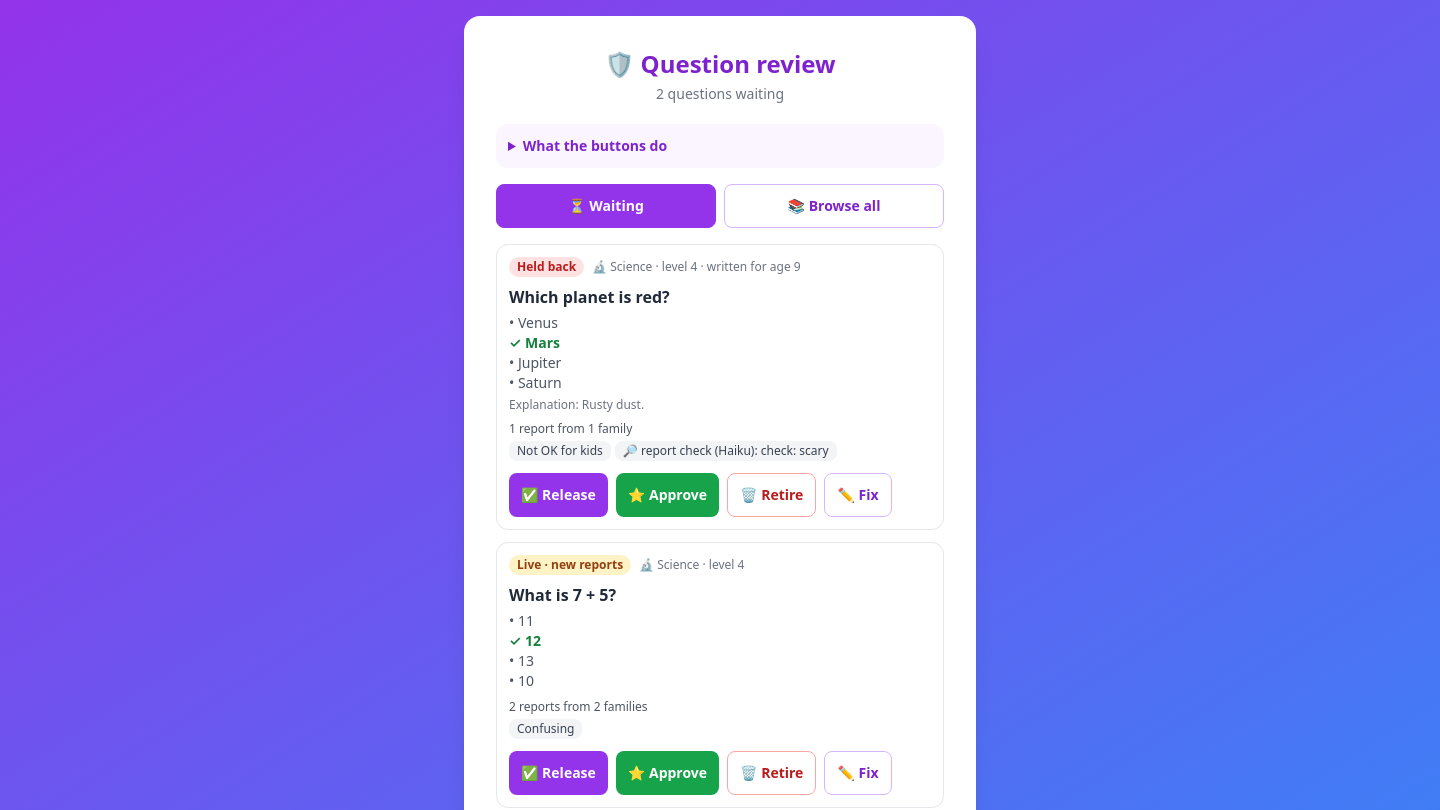
Scenario: QuestionReviewPage (#147) › Release and Approve decide at once; the question leaves the list and it says so
Check: the text "2 questions waiting" is shown, box [656,84,784,103]
What coordinates should you click on to do the following:
click the button "✅ Release" below "Held back"
I would click on:
 (558, 495)
Its box is [509,473,608,517].
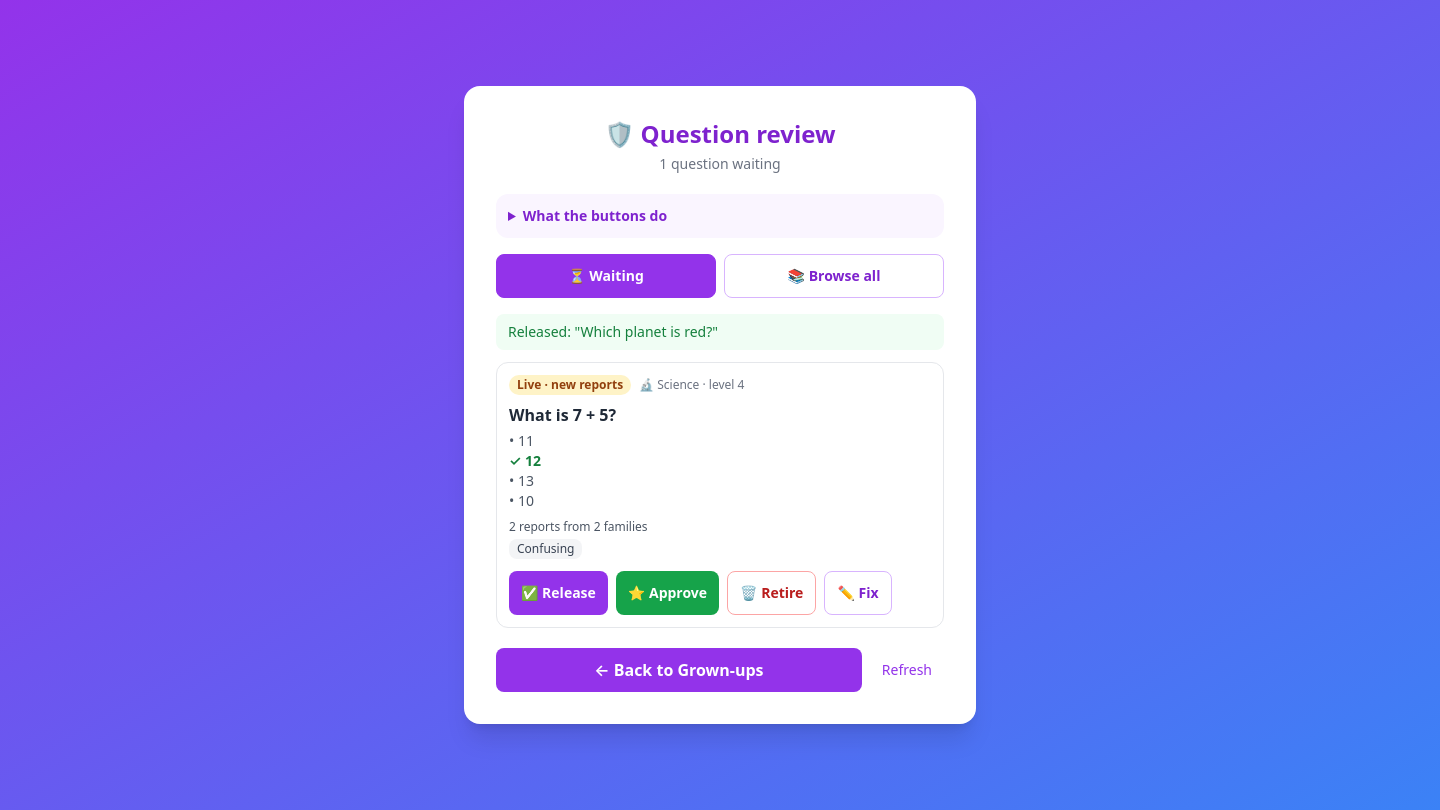
Check: the text "1 question waiting" is shown, box [659,154,781,173]
What coordinates should you click on to do the following:
click the button "⭐ Approve"
I would click on:
 (668, 593)
Its box is [616,571,719,615].
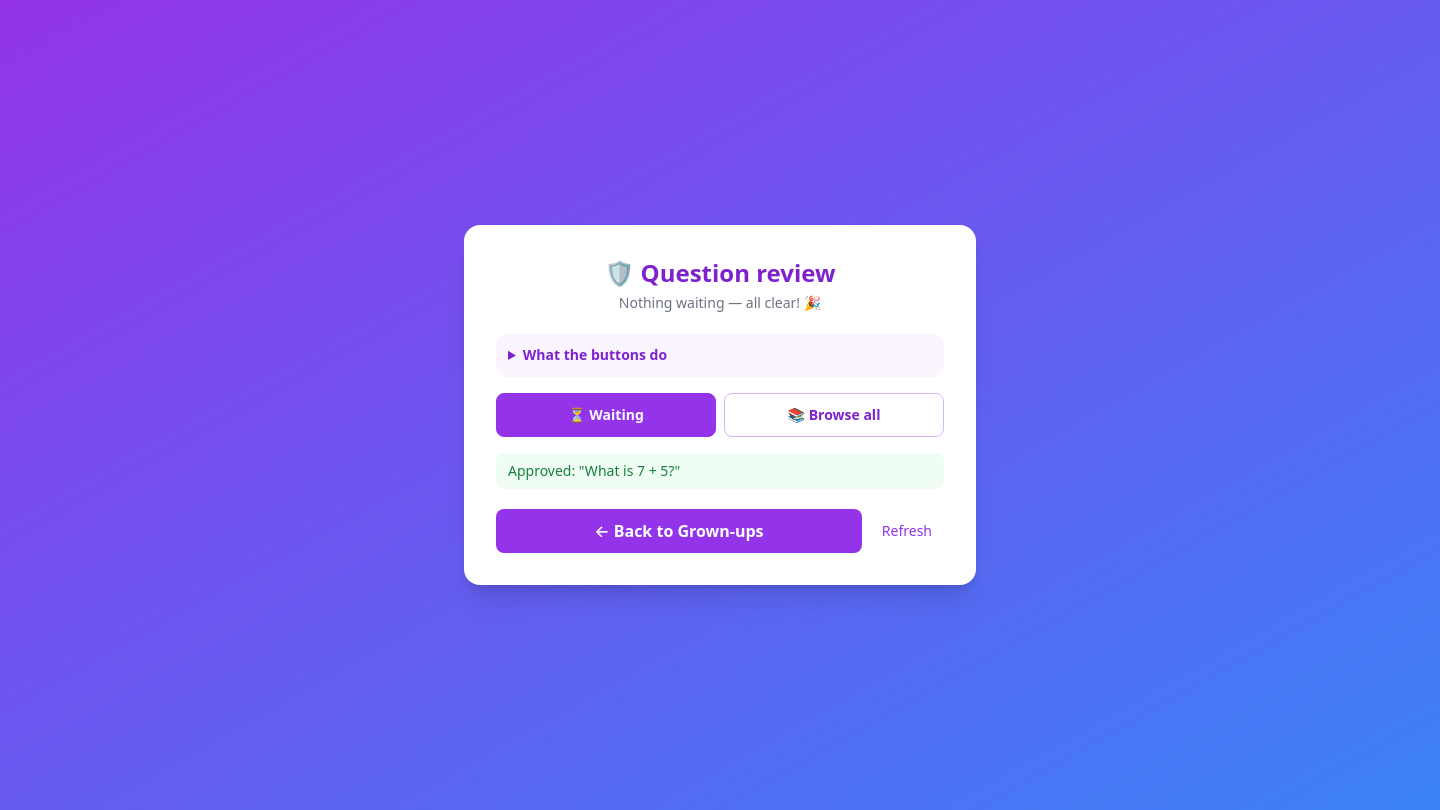
Check: the text "Nothing waiting — all clear! 🎉" is shown, box [619,293,821,312]
